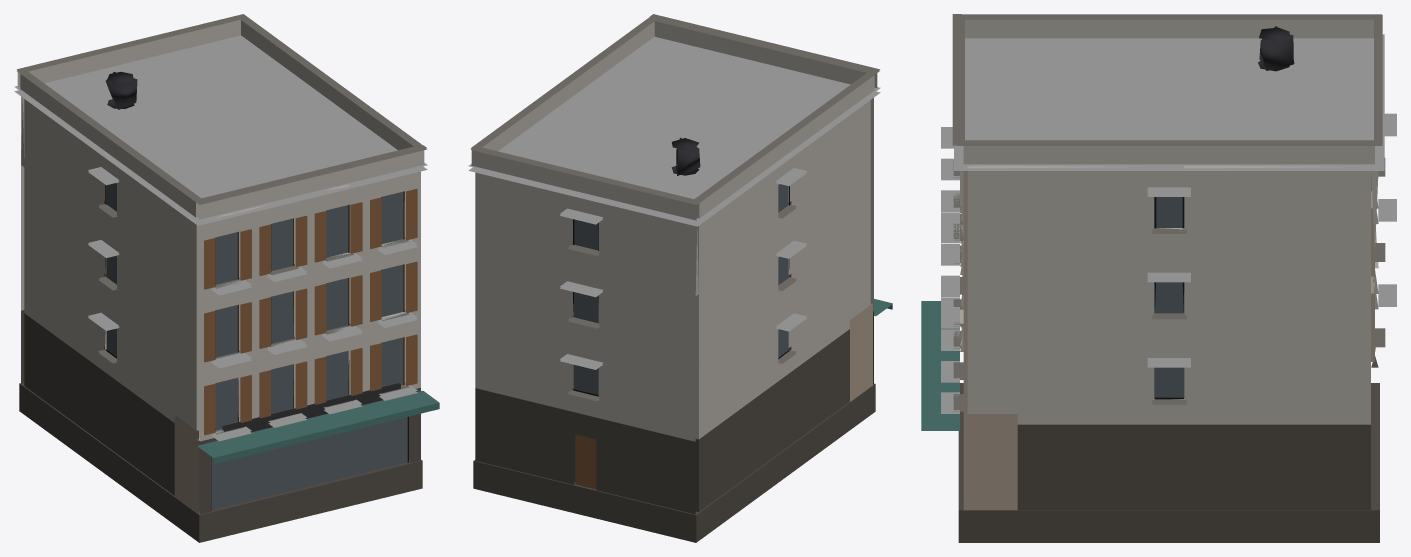
File: shop_house_10x14_4_far.glb
3 views of the same model, side by side, from view 1: azimuth 30°, elevation 25°; view 2: azimuth 150°, elevation 25°; view 3: azimuth 270°, elevation 25° (orthographic). The views are drawn at different scales.
Visible parts, largest first — view 1: shop_house_10x14_4; view 2: shop_house_10x14_4; view 3: shop_house_10x14_4.
Part boxes in pixels (x1=…): shop_house_10x14_4: x1=14, y1=14, x2=439, y2=542; shop_house_10x14_4: x1=468, y1=14, x2=892, y2=542; shop_house_10x14_4: x1=921, y1=14, x2=1396, y2=542.
Bounding box in the file's own units: 11.22 × 15.25 × 15.92.
